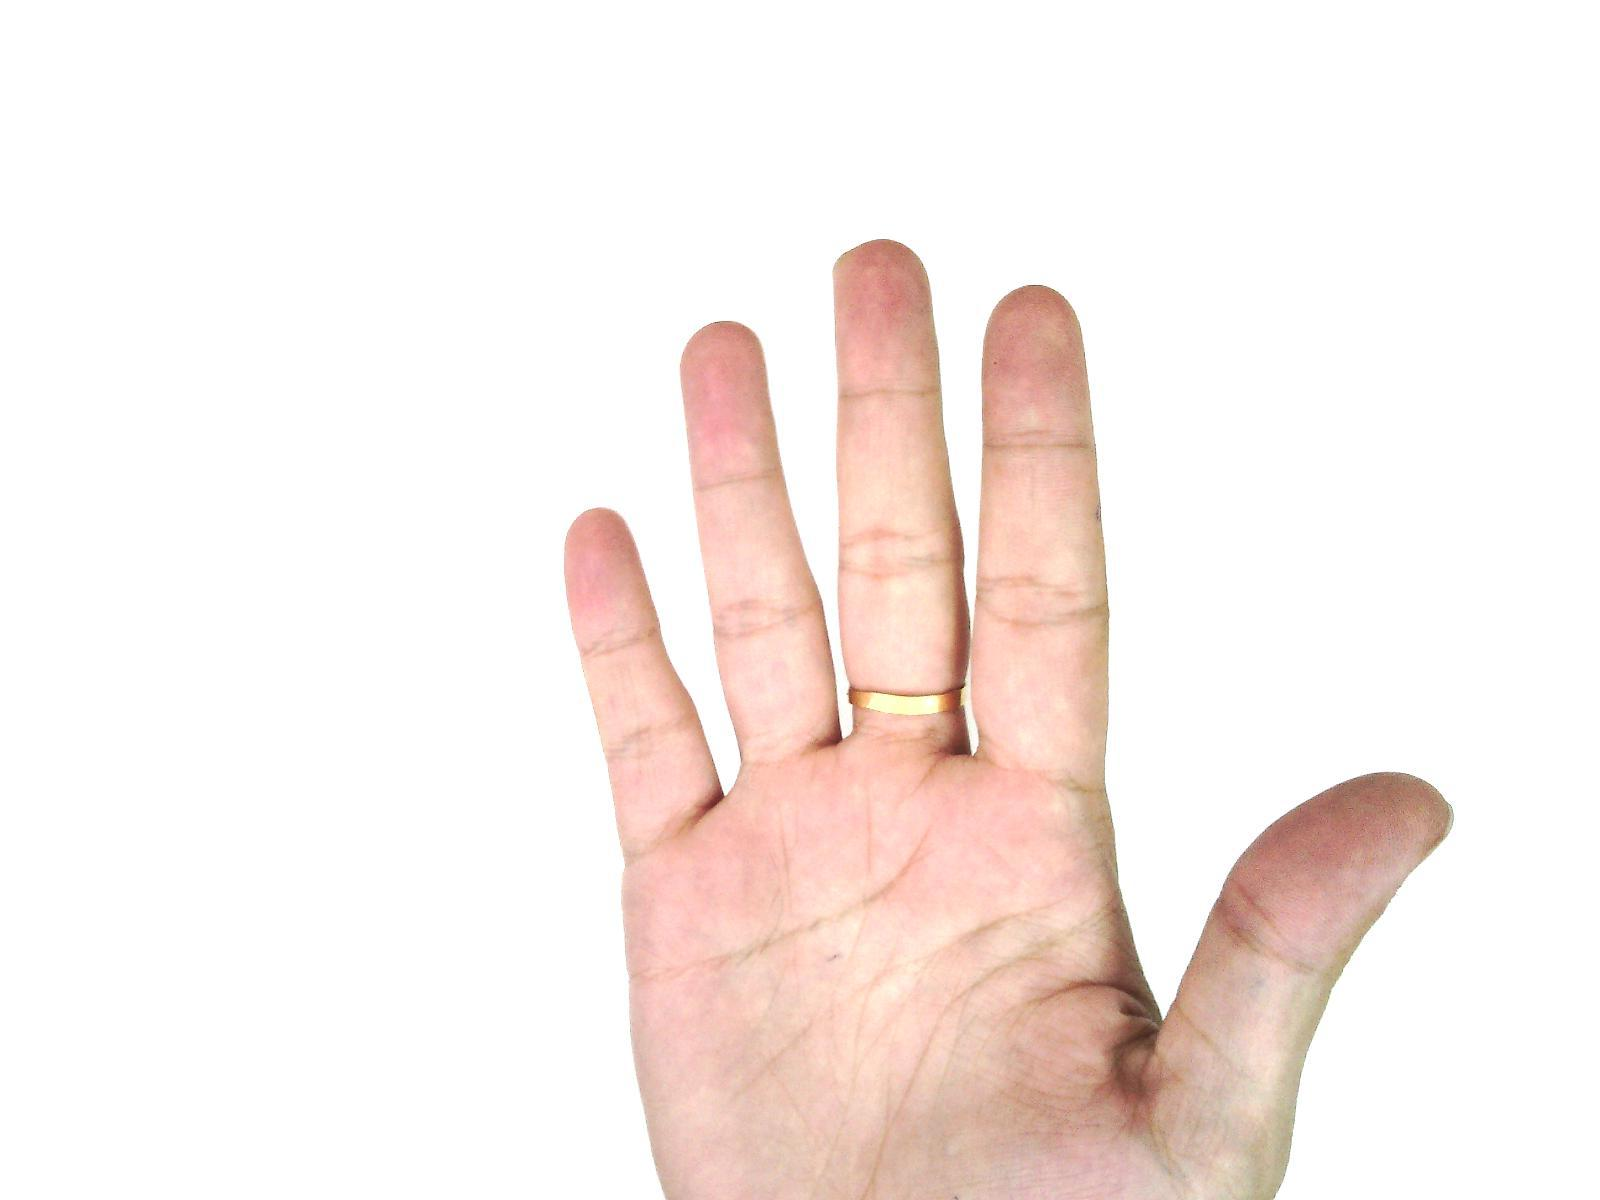hand: (529, 232, 1458, 1200)
